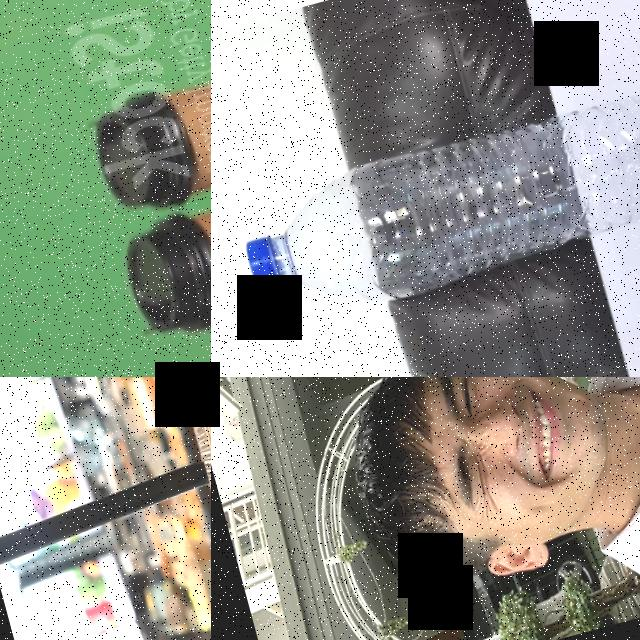bottle: (228, 65, 640, 337)
cup: (80, 37, 211, 223), (114, 164, 211, 348), (145, 377, 211, 640)
